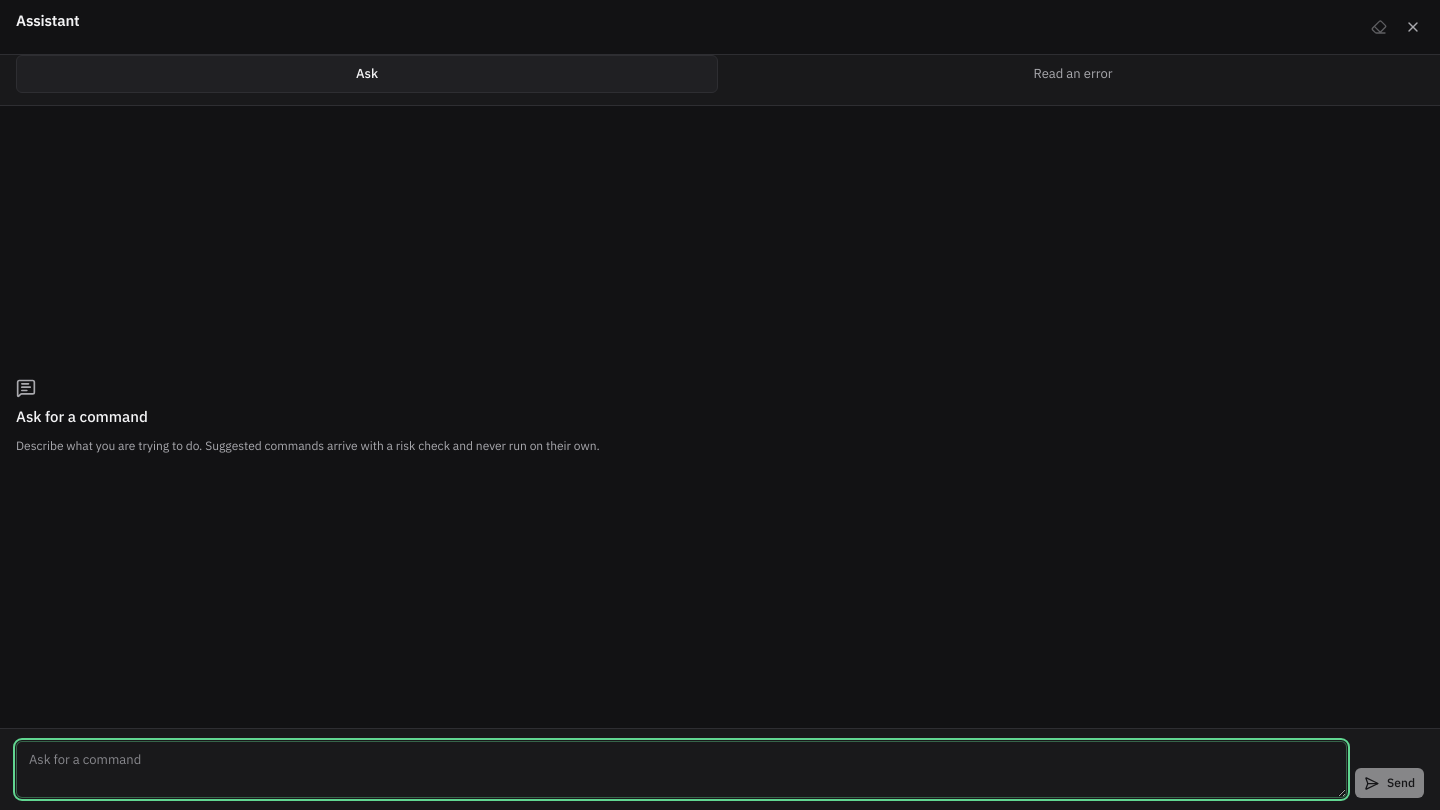
Test: AssistantDock › stops a request that is still running
Type "how do I free disk space?" into the text box named "Message the assistant" at (682, 770), box [16,741,1347,798]
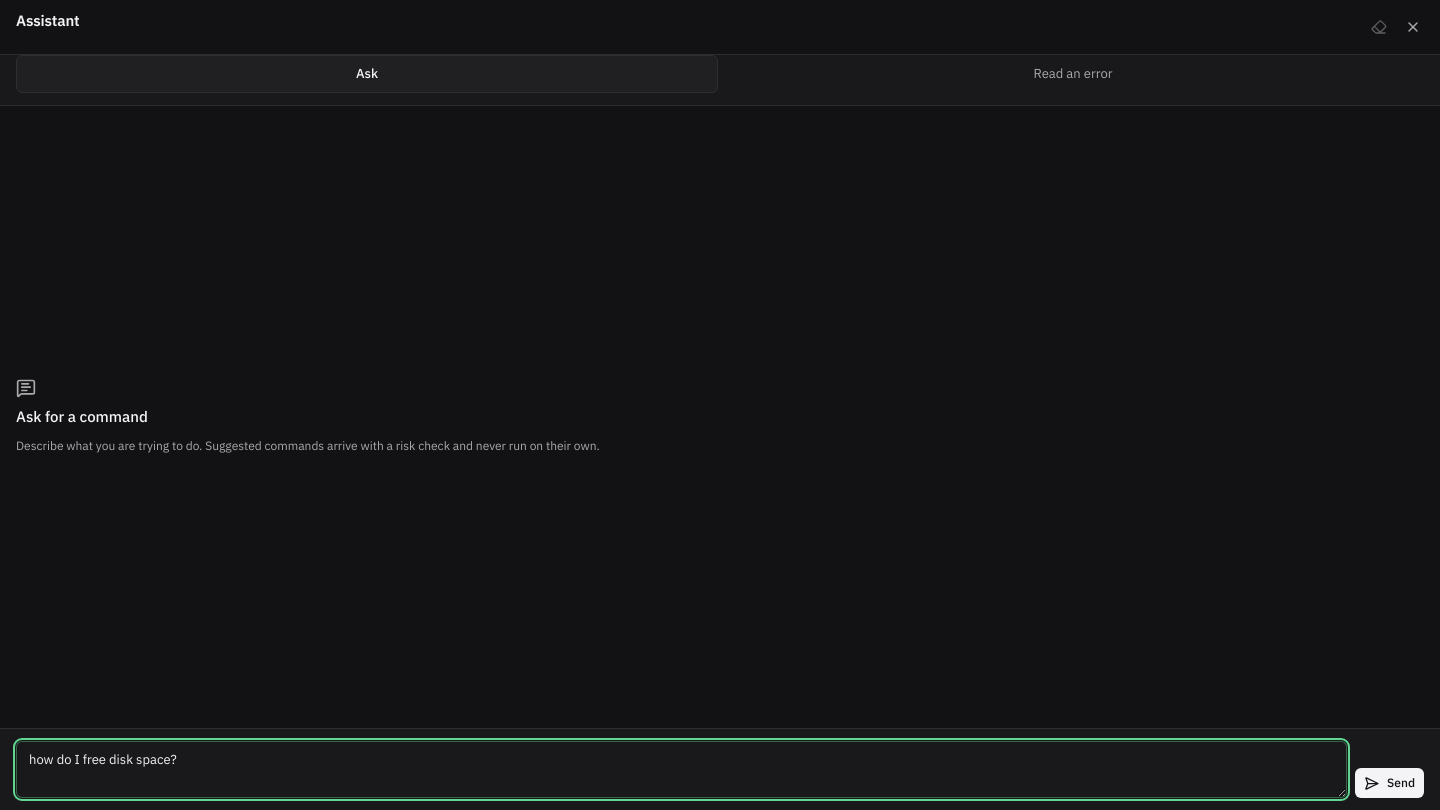
Click the button "Send" at (1390, 783), box [1355,768,1424,798]
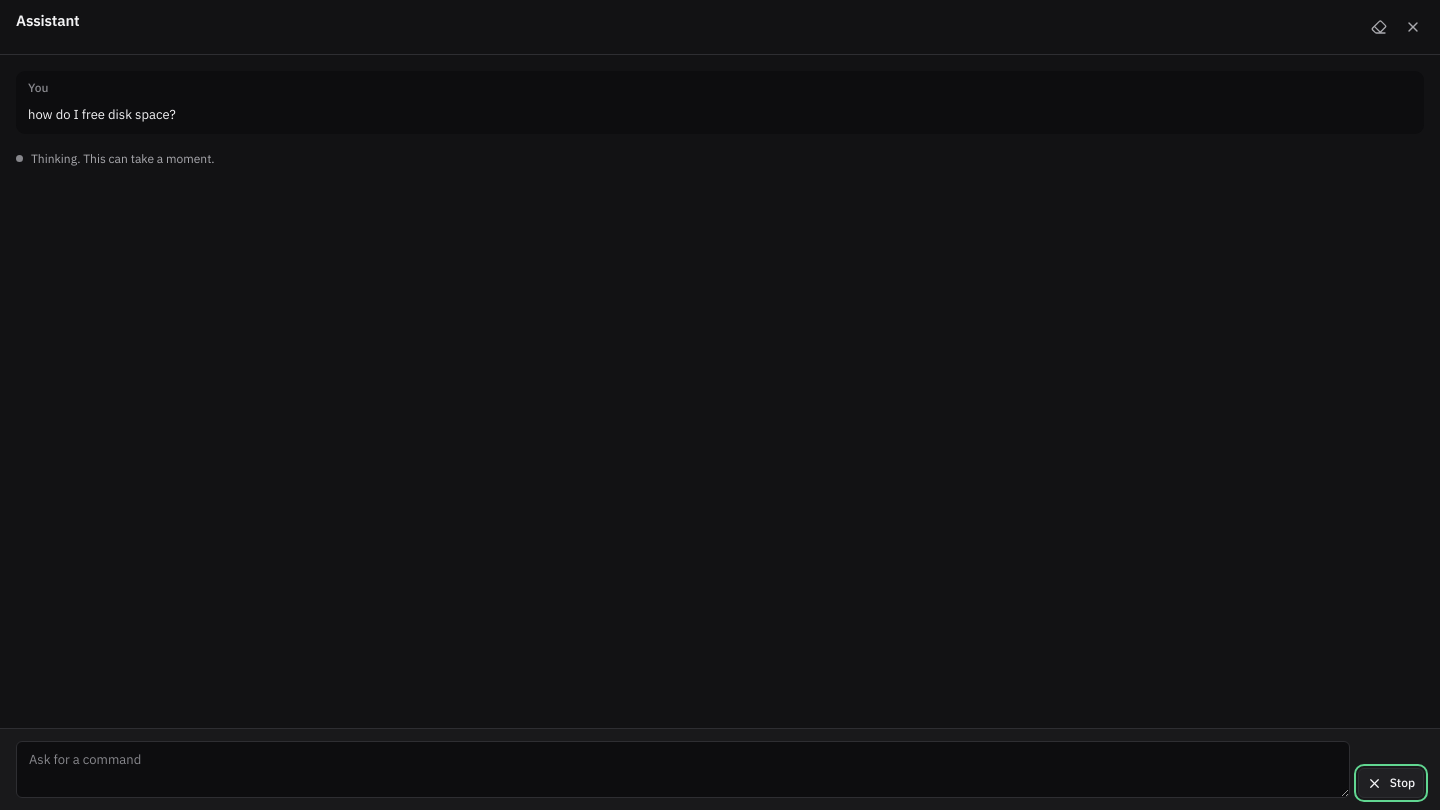
Click the button "Stop" at (1391, 783), box [1358,768,1424,798]
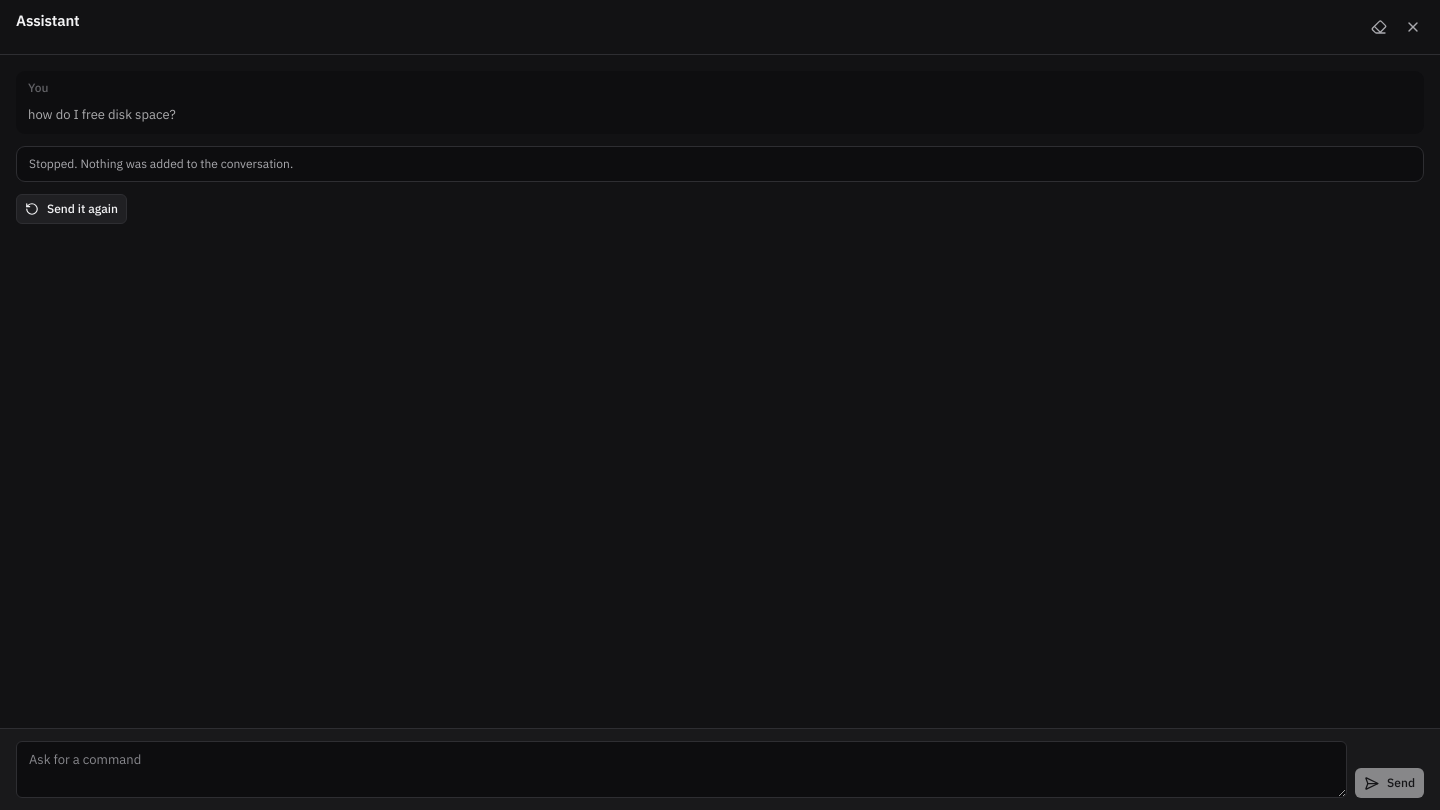
Expected: the text "Stopped. Nothing was added to the conversation." is shown, [16,146,1424,182]
Expected: the button "Send" is shown, [1355,768,1424,798]
